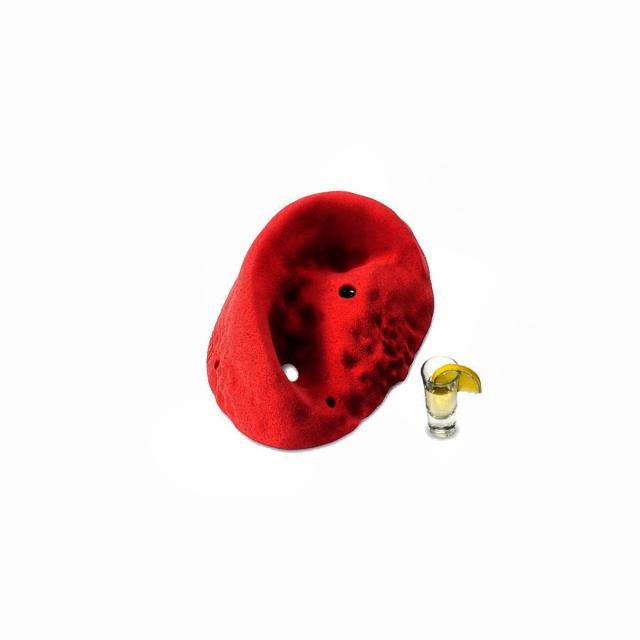Hold: (190, 177, 449, 469)
